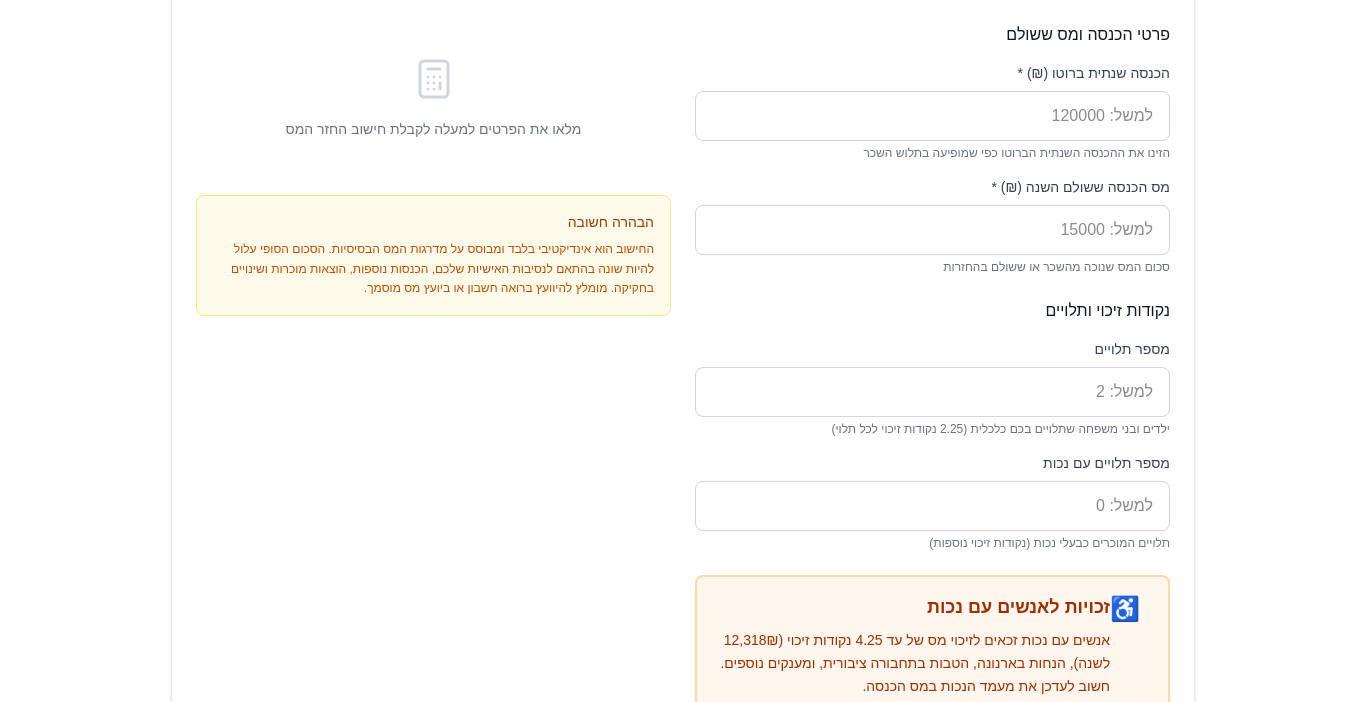
Test: TaxRefundCalculatorEnhanced › Tax Calculations › includes disability credits in calculation
The image size is (1366, 702).
In the number field labelled "הכנסה שנתית ברוטו (₪) *": {"x": 932, "y": 116} left=695, top=91, right=1170, bottom=141, type "100000"
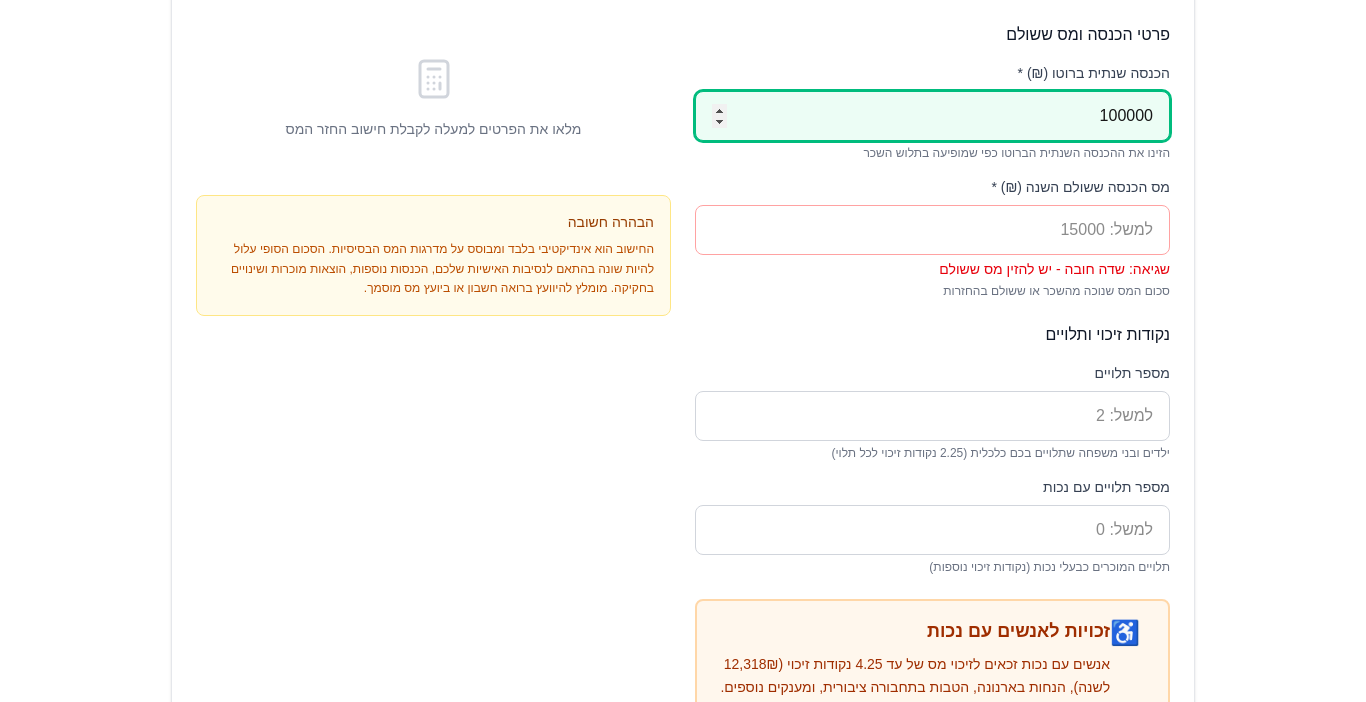
In the number field labelled "מס הכנסה ששולם השנה (₪) *": {"x": 932, "y": 230} left=695, top=205, right=1170, bottom=255, type "15000"
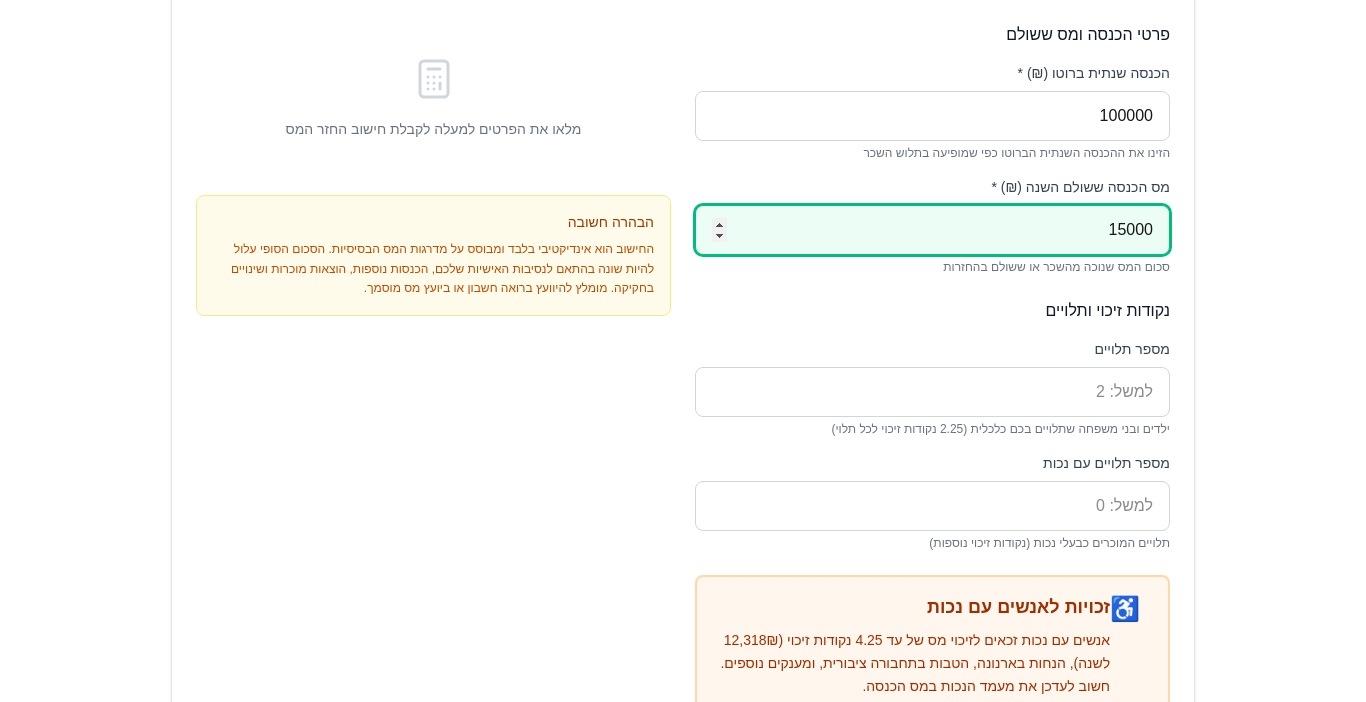
In the number field labelled "מספר תלויים": {"x": 932, "y": 392} left=695, top=367, right=1170, bottom=417, type "2"
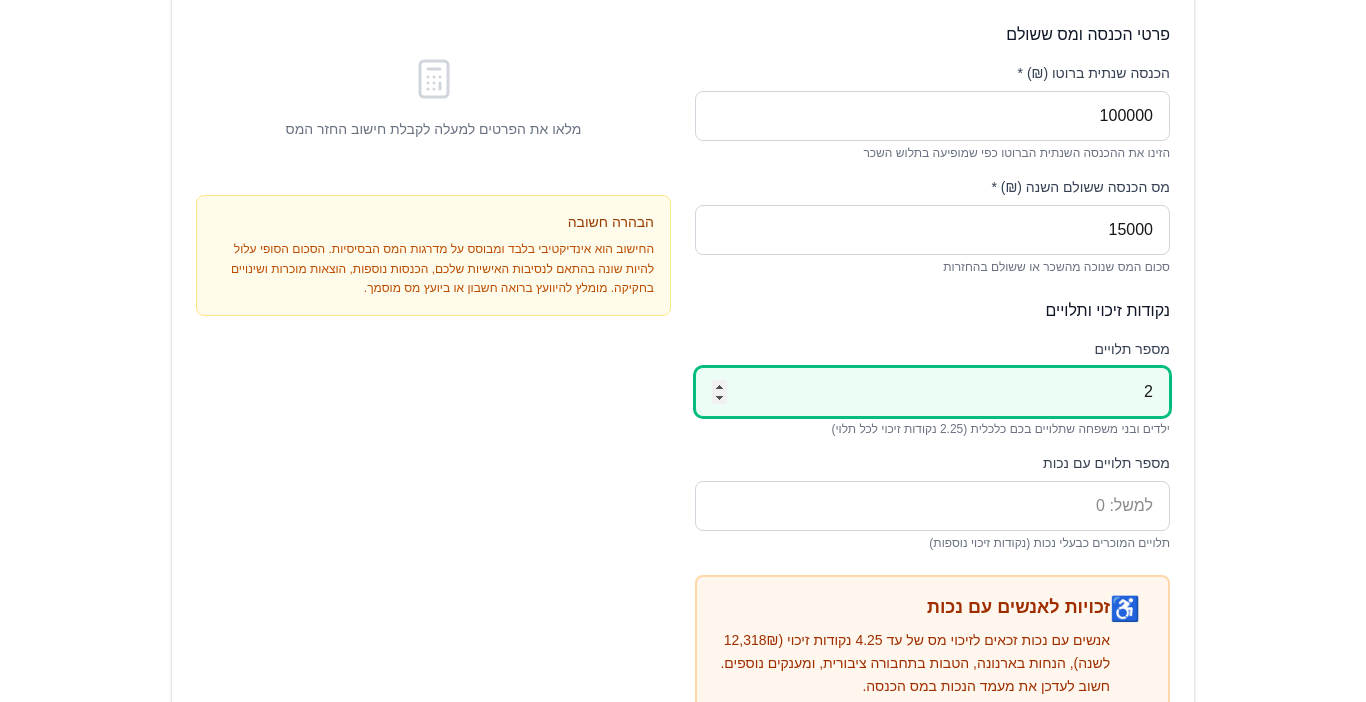
In the number field labelled "מספר תלויים עם נכות": {"x": 932, "y": 506} left=695, top=481, right=1170, bottom=531, type "1"
(page scrolled)
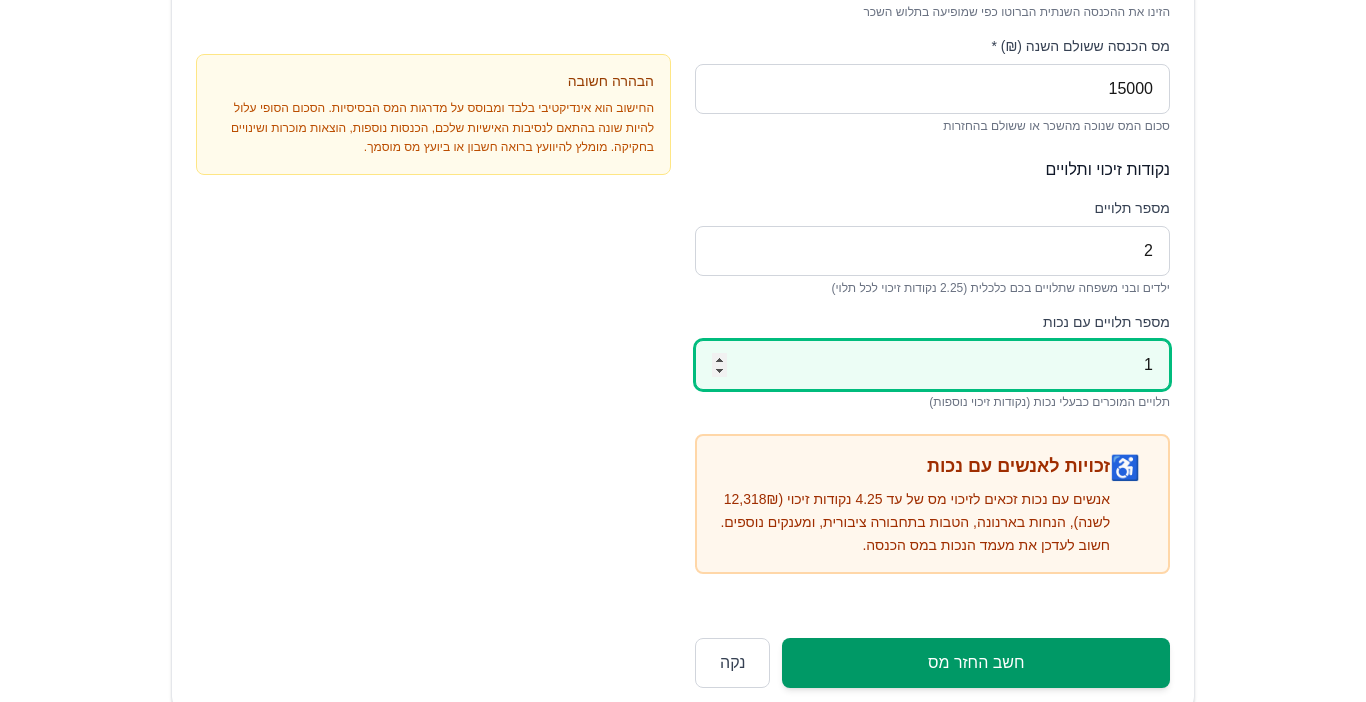
Click the button "חשב החזר מס": {"x": 976, "y": 663} left=782, top=638, right=1170, bottom=688
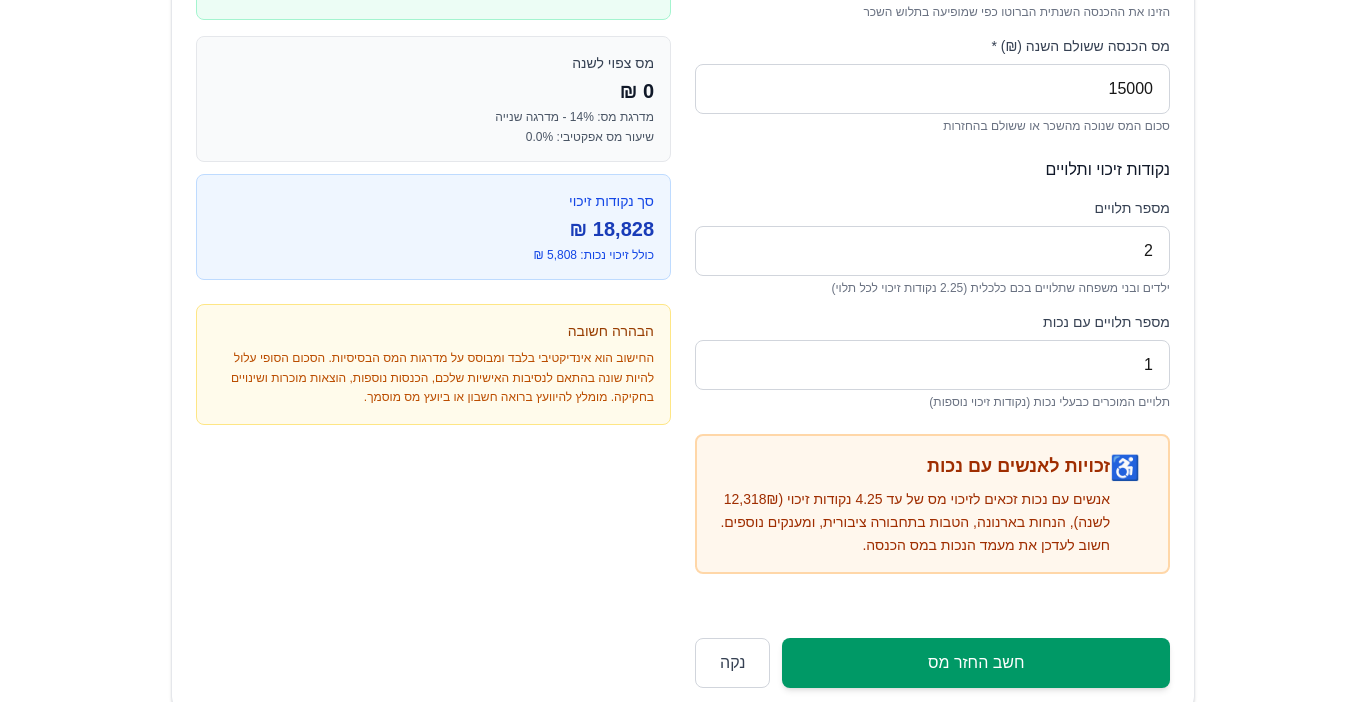
expect the text "כולל זיכוי נכות: 5,808 ₪" is shown: met, box left=577, top=248, right=654, bottom=262
